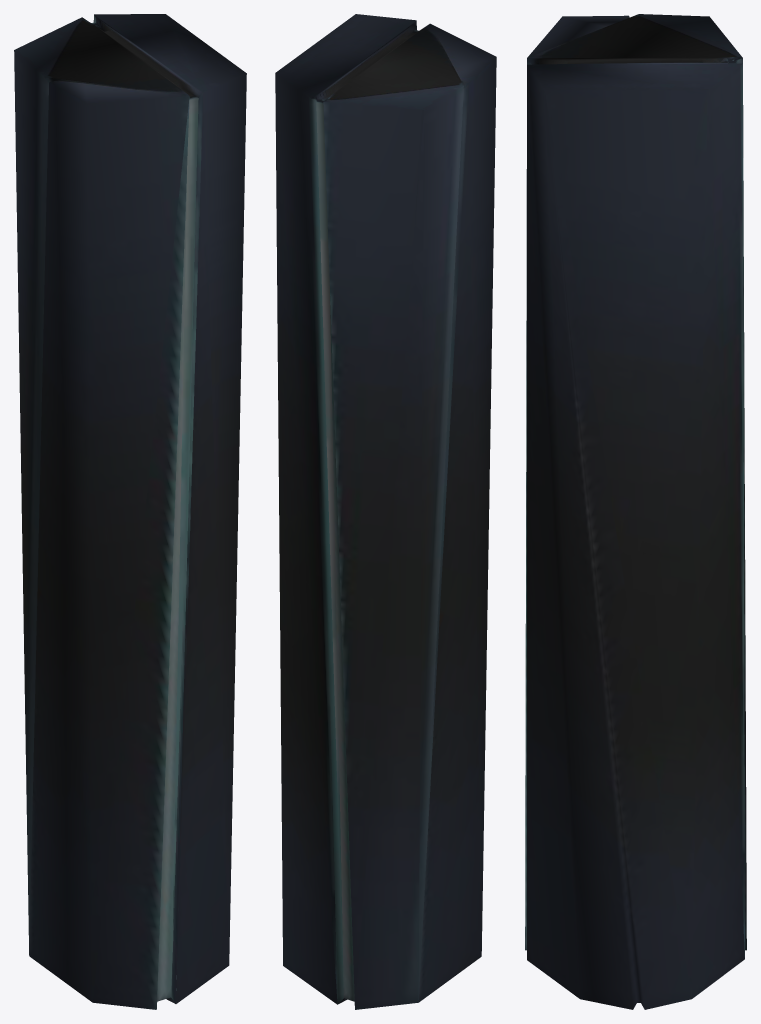
File: original_glb.glb
3 renders of one model, left to right at view 1: azimuth 30°, elevation 25°; view 2: azimuth 150°, elevation 25°; view 3: azimuth 270°, elevation 25°, orthographic.
Parts seen in each view (by area): view 1: light stele; view 2: light stele; view 3: light stele.
Boxes of the visible parts, bbox=[...] form: light stele: bbox=[14, 14, 246, 1009]; light stele: bbox=[275, 14, 496, 1009]; light stele: bbox=[525, 14, 746, 1009].
Bounding box in the file's own units: 0.2051 × 0.998 × 0.2207.
Materials: 1 (1 with a texture image).
